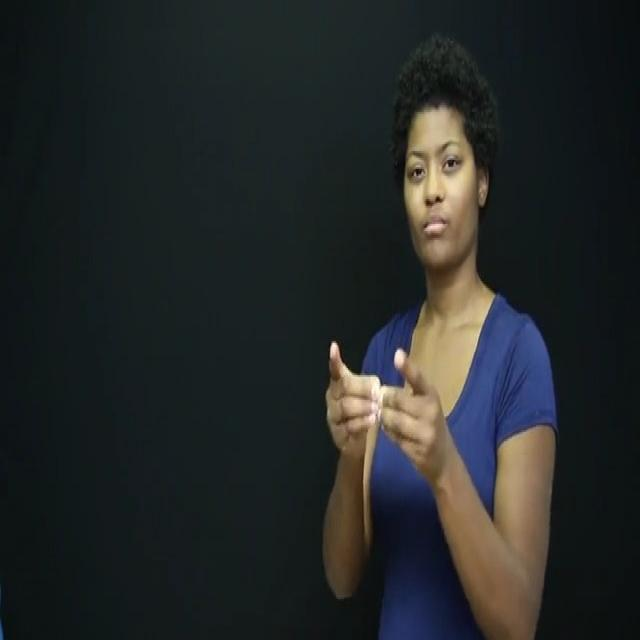sweet: (312, 283, 464, 528)
